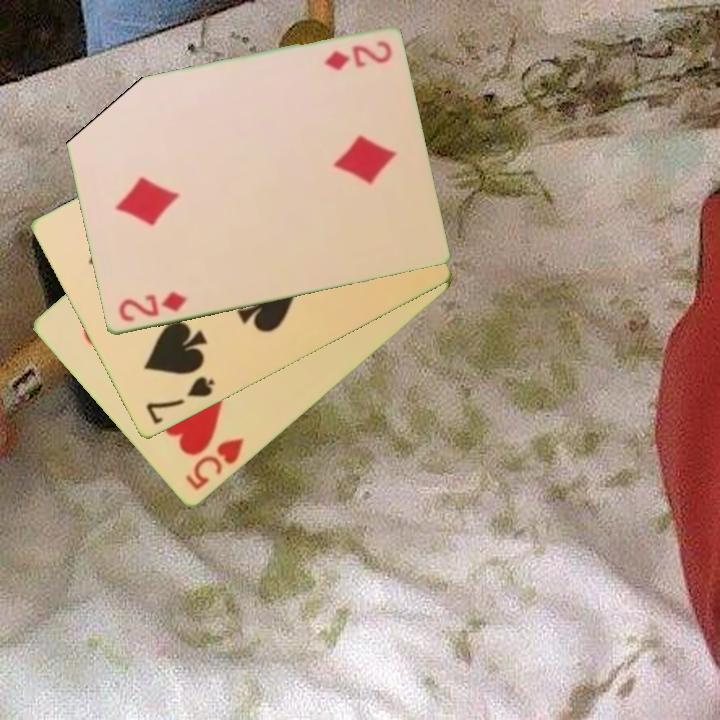2d: (114, 288, 190, 325), (321, 37, 395, 74)
5h: (181, 434, 247, 494)
7s: (142, 373, 218, 428)
